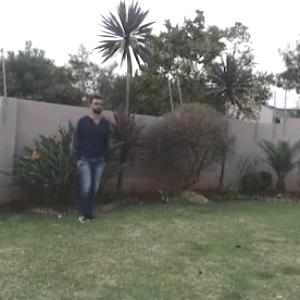follow: (72, 93, 110, 223)
